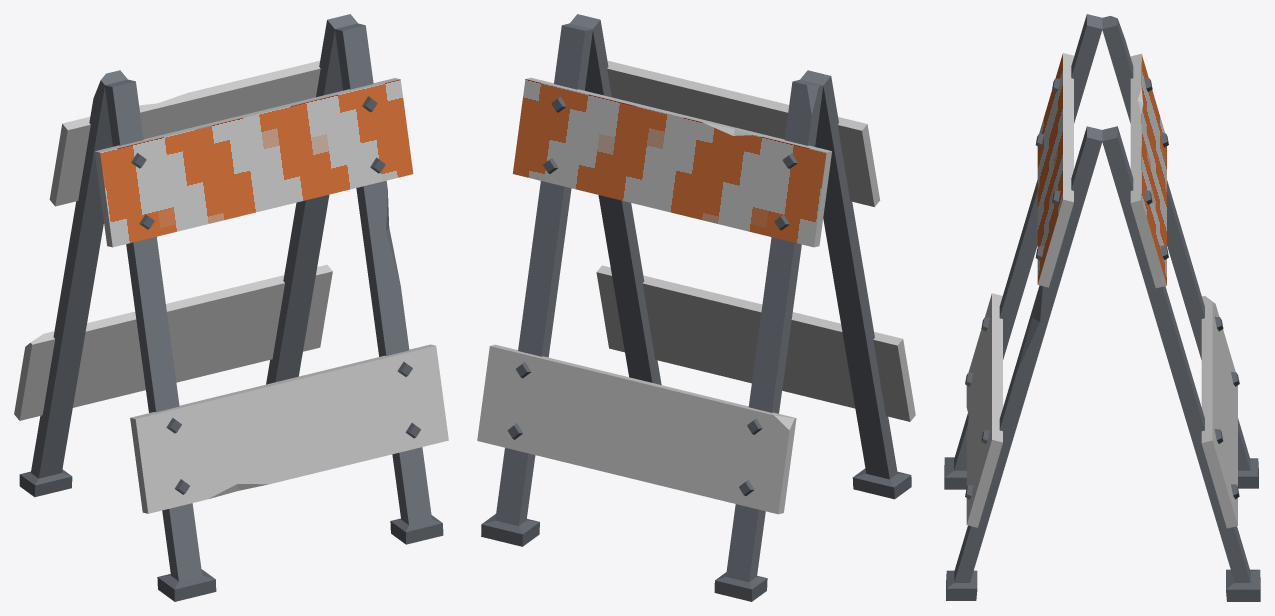
File: barrier.glb
The picture shows the model from 3 angles, left to right: view 1: azimuth 30°, elevation 25°; view 2: azimuth 150°, elevation 25°; view 3: azimuth 270°, elevation 25°; orthographic projection.
Visible parts, largest first — view 1: SM_Prop_Barrier_01; view 2: SM_Prop_Barrier_01; view 3: SM_Prop_Barrier_01.
Boxes of the visible parts, x1,y1,x2,y2 form: SM_Prop_Barrier_01: [14, 14, 448, 601]; SM_Prop_Barrier_01: [477, 14, 915, 601]; SM_Prop_Barrier_01: [944, 14, 1260, 601].
Bounding box in the file's own units: 0.89 × 1.3 × 0.8077.
1 material, 1 textured.
